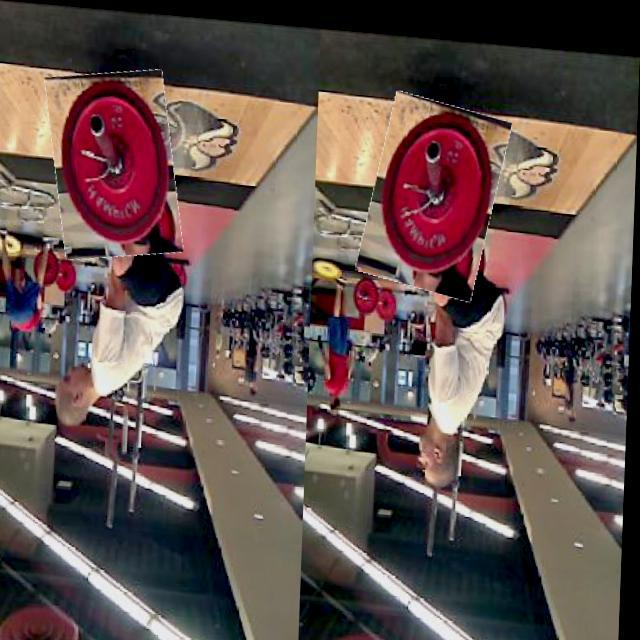barbell: (366, 87, 507, 292), (48, 64, 185, 263)
